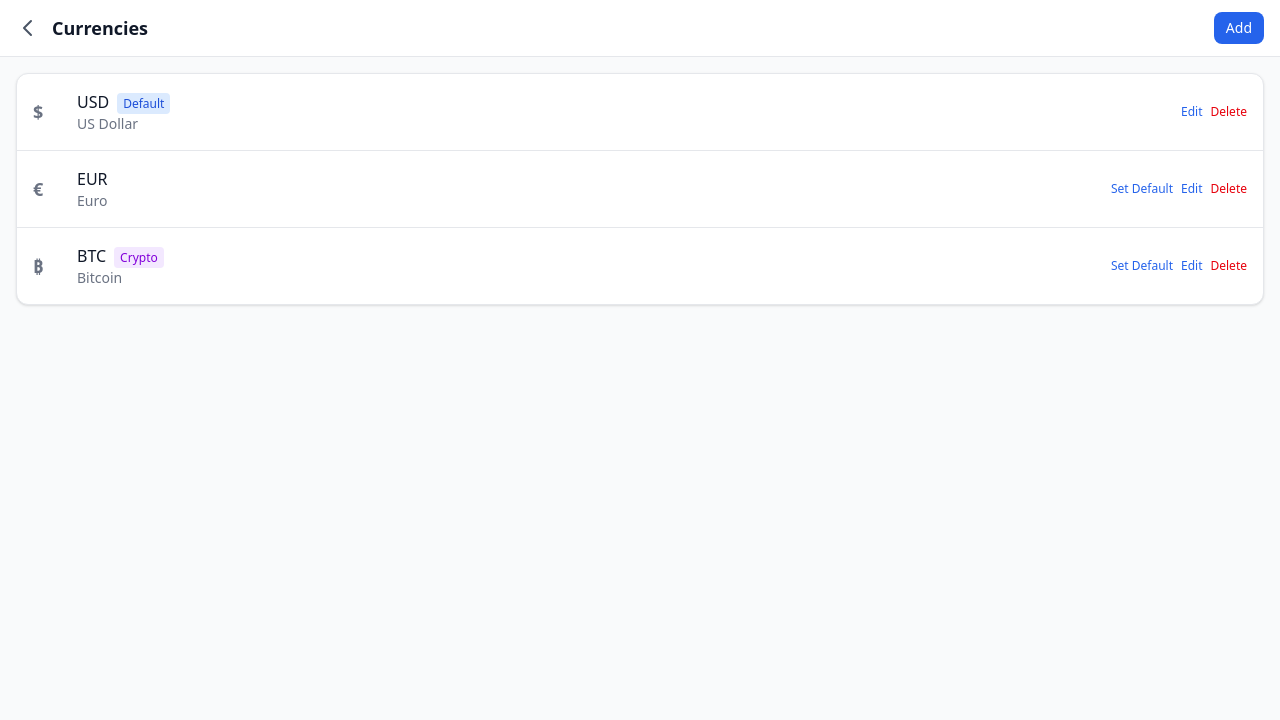
CurrenciesPage › opens edit modal when Edit is clicked
Step 1. Click the button "Edit" in the row of "US Dollar" → (1192, 112), box [1181,104,1202,120]
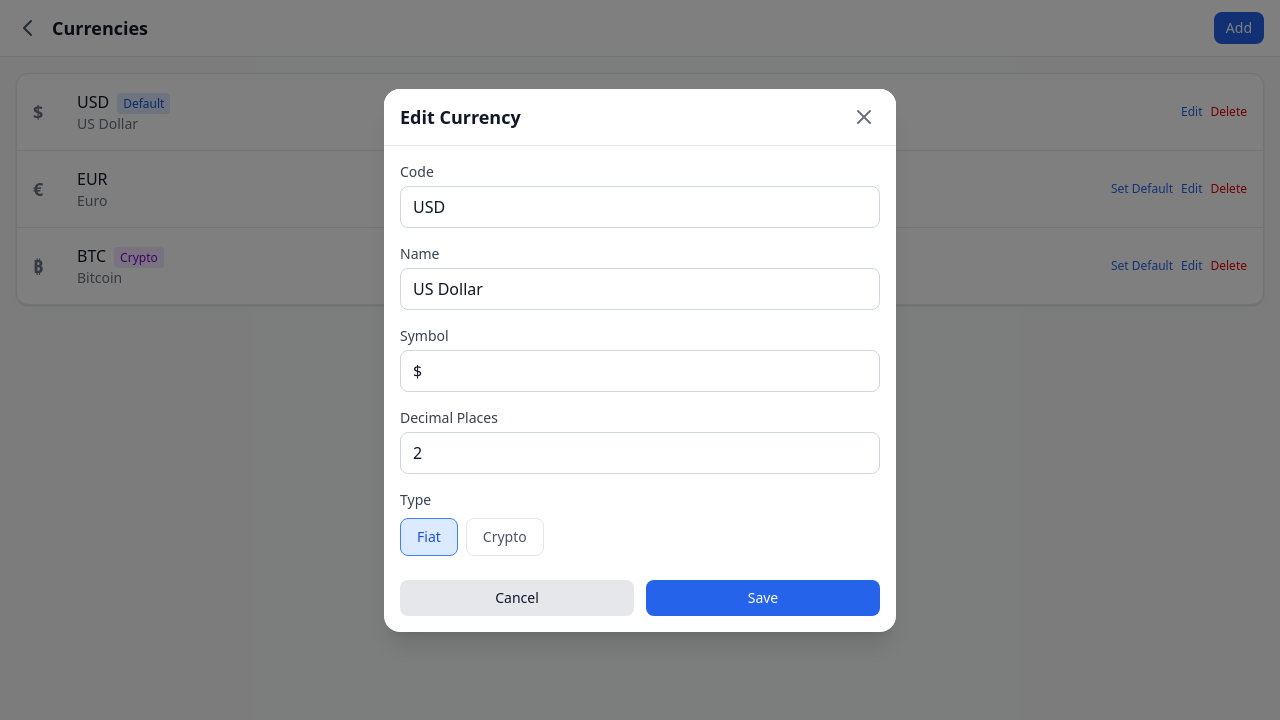
Now the heading "Edit Currency" is shown, box [400,102,521,130]
